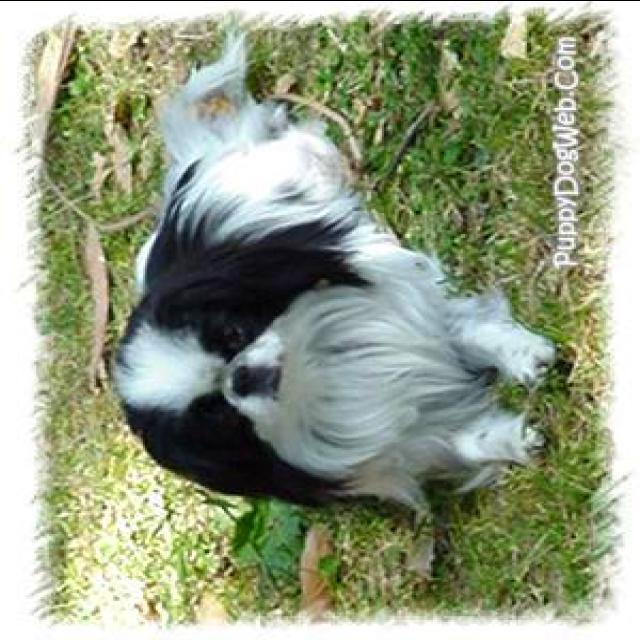husky: (104, 23, 558, 514)
